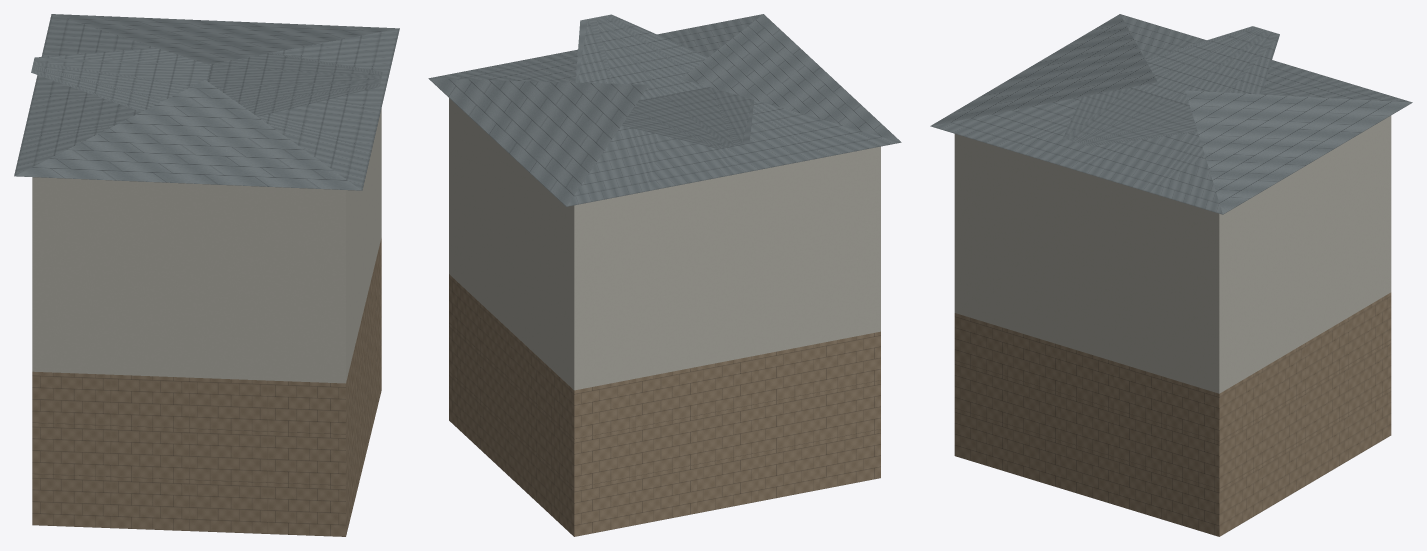
The model's file is bld_c18_27_391.gltf.
3 renders of one model, left to right at view 1: azimuth 30°, elevation 25°; view 2: azimuth 150°, elevation 25°; view 3: azimuth 270°, elevation 25°, orthographic. The views are drawn at different scales.
Parts seen in each view (by area): view 1: bld_c18_27_391; view 2: bld_c18_27_391; view 3: bld_c18_27_391.
Boxes of the visible parts, box(x1,y1,x2,y2) form: bld_c18_27_391: box(14, 14, 399, 536); bld_c18_27_391: box(428, 14, 901, 536); bld_c18_27_391: box(930, 14, 1412, 536).
Size of the model in its own units: 15.34 by 12.8 by 15.59.
3 materials, 3 textured.
